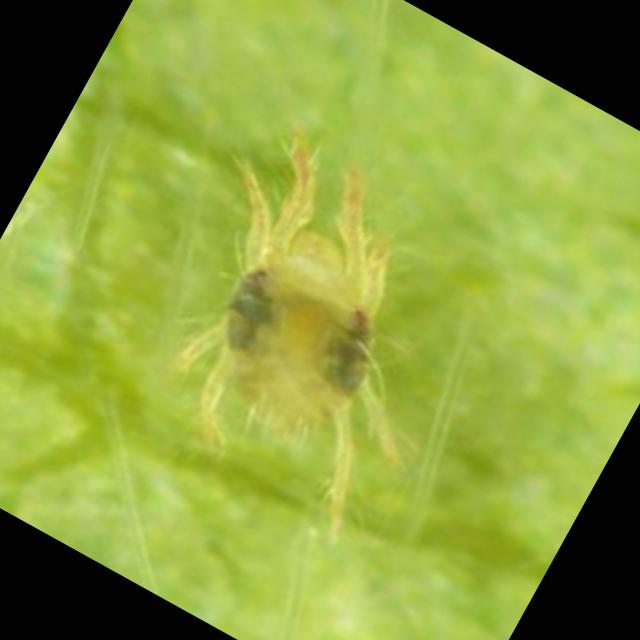spider mite: (79, 68, 601, 614)
